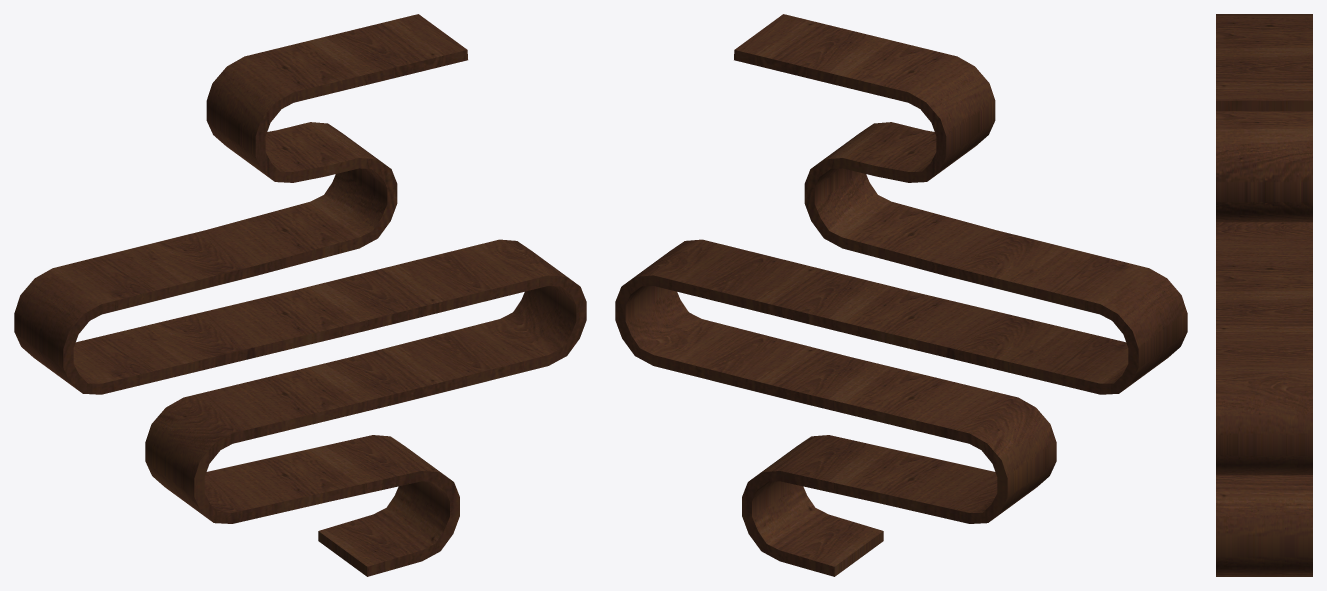
The model's file is Shelf2.a.fbx.
The picture shows the model from 3 angles, left to right: view 1: azimuth 30°, elevation 25°; view 2: azimuth 150°, elevation 25°; view 3: azimuth 270°, elevation 25°; orthographic projection.
Parts seen in each view (by area): view 1: s4studio_mesh_0; view 2: s4studio_mesh_0; view 3: s4studio_mesh_0.
Boxes of the visible parts, bbox=[...] form: s4studio_mesh_0: bbox=[14, 14, 586, 576]; s4studio_mesh_0: bbox=[615, 14, 1187, 576]; s4studio_mesh_0: bbox=[1216, 14, 1312, 576].
Bounding box in the file's own units: 70.39 × 64.65 × 11.43.
1 material, 1 textured.
